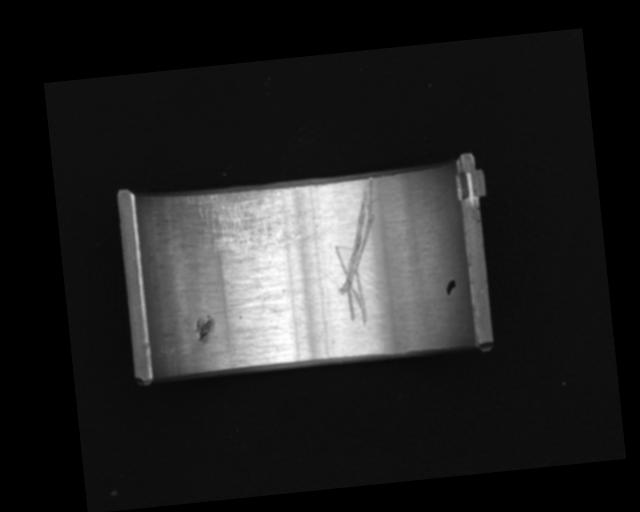blot: (443, 278, 458, 297)
bruise: (192, 313, 216, 344)
nick: (327, 175, 390, 327)
scratch: (187, 183, 320, 262)
